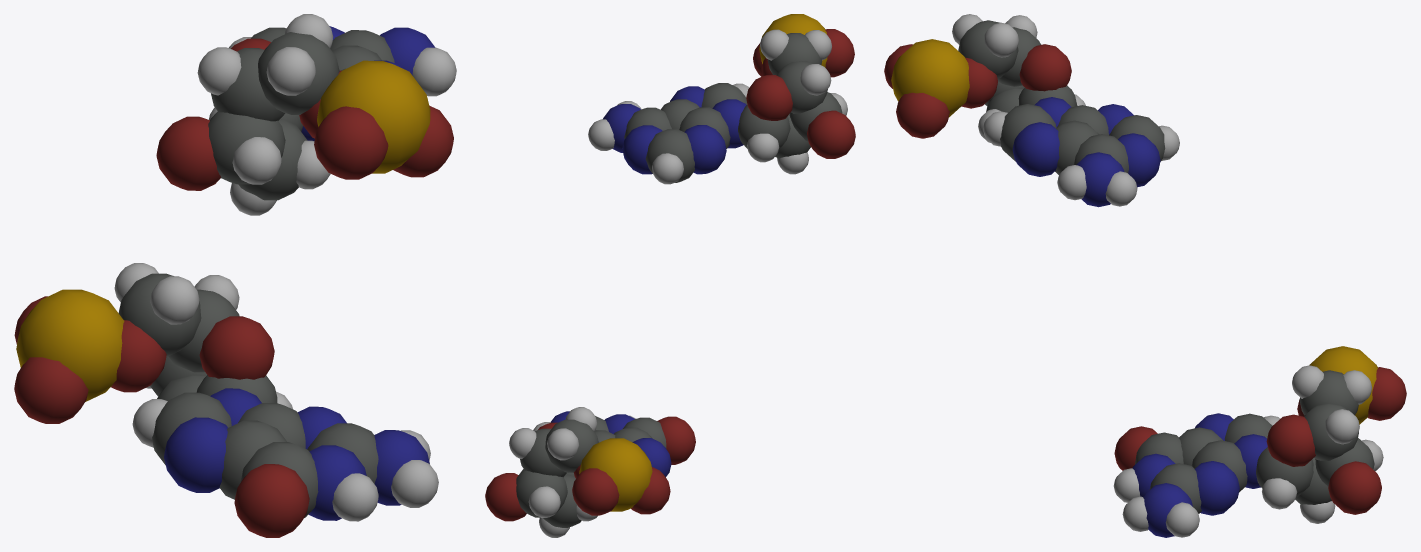
Rendered from dna_chainB_4_8.obj.
The picture shows the model from 3 angles, left to right: view 1: azimuth 30°, elevation 25°; view 2: azimuth 150°, elevation 25°; view 3: azimuth 270°, elevation 25°; orthographic projection. The views are drawn at different scales.
Visible parts, largest first — view 1: vmd_mol0_rep1, vmd_mol0_rep3, vmd_mol0_rep5; view 2: vmd_mol0_rep1, vmd_mol0_rep3, vmd_mol0_rep5; view 3: vmd_mol0_rep1, vmd_mol0_rep3, vmd_mol0_rep5.
Boxes of the visible parts, x1,y1,x2,y2 form: vmd_mol0_rep1: (14,26,453,537); vmd_mol0_rep3: (114,14,456,521); vmd_mol0_rep5: (16,60,430,401); vmd_mol0_rep1: (485,29,855,527); vmd_mol0_rep3: (509,29,847,537); vmd_mol0_rep5: (579,14,827,511); vmd_mol0_rep1: (884,20,1406,537); vmd_mol0_rep3: (952,14,1383,537); vmd_mol0_rep5: (891,39,1377,424).
Bounding box in the file's own units: 0.3092 × 0.501 × 0.5189.
